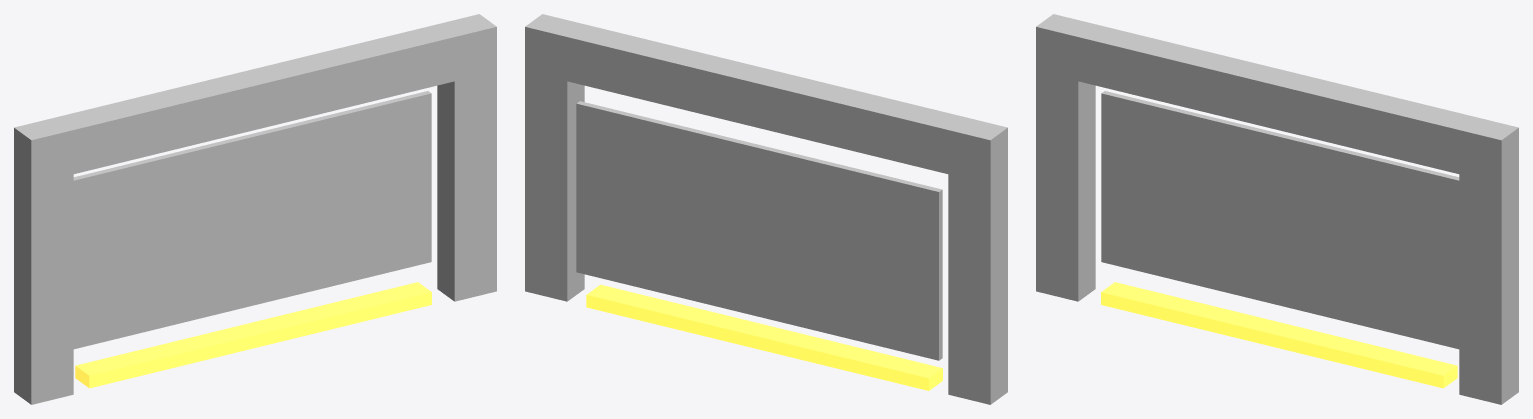
Rendered from wa_lava_spout.glb.
3 views of the same model, side by side, from view 1: azimuth 30°, elevation 25°; view 2: azimuth 150°, elevation 25°; view 3: azimuth 330°, elevation 25° (orthographic).
Parts seen in each view (by area): view 1: wa_lava_spout; view 2: wa_lava_spout; view 3: wa_lava_spout.
Part boxes in pixels (<box>): wa_lava_spout: <box>14,14,496,404</box>; wa_lava_spout: <box>525,14,1007,404</box>; wa_lava_spout: <box>1036,14,1518,404</box>.
Bounding box in the file's own units: 4.62 × 2.52 × 0.3.
